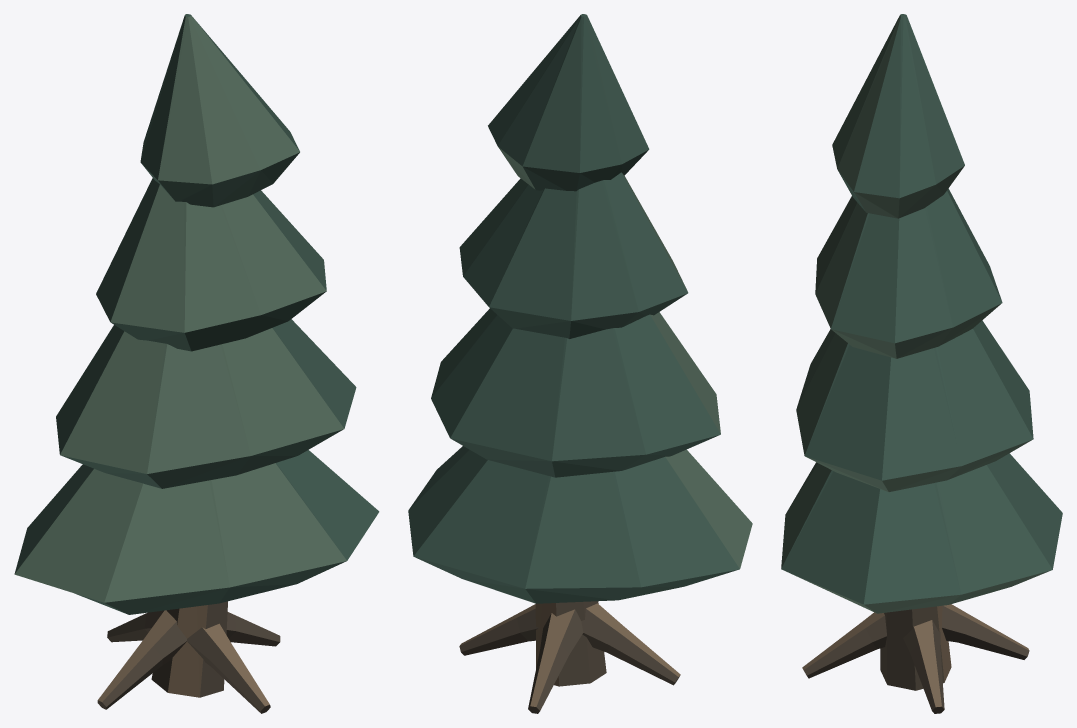
File: AE_DarkForest_CrowPine.fbx
3 views of the same model, side by side, from view 1: azimuth 30°, elevation 25°; view 2: azimuth 150°, elevation 25°; view 3: azimuth 270°, elevation 25° (orthographic). The views are drawn at different scales.
Visible parts, largest first — view 1: AE_DarkForest_CrowPine; view 2: AE_DarkForest_CrowPine; view 3: AE_DarkForest_CrowPine.
Boxes of the visible parts, x1,y1,x2,y2 form: AE_DarkForest_CrowPine: (14,14,379,713); AE_DarkForest_CrowPine: (408,14,752,713); AE_DarkForest_CrowPine: (781,14,1062,713).
Size of the model in its own units: 1.35 by 2.57 by 1.
